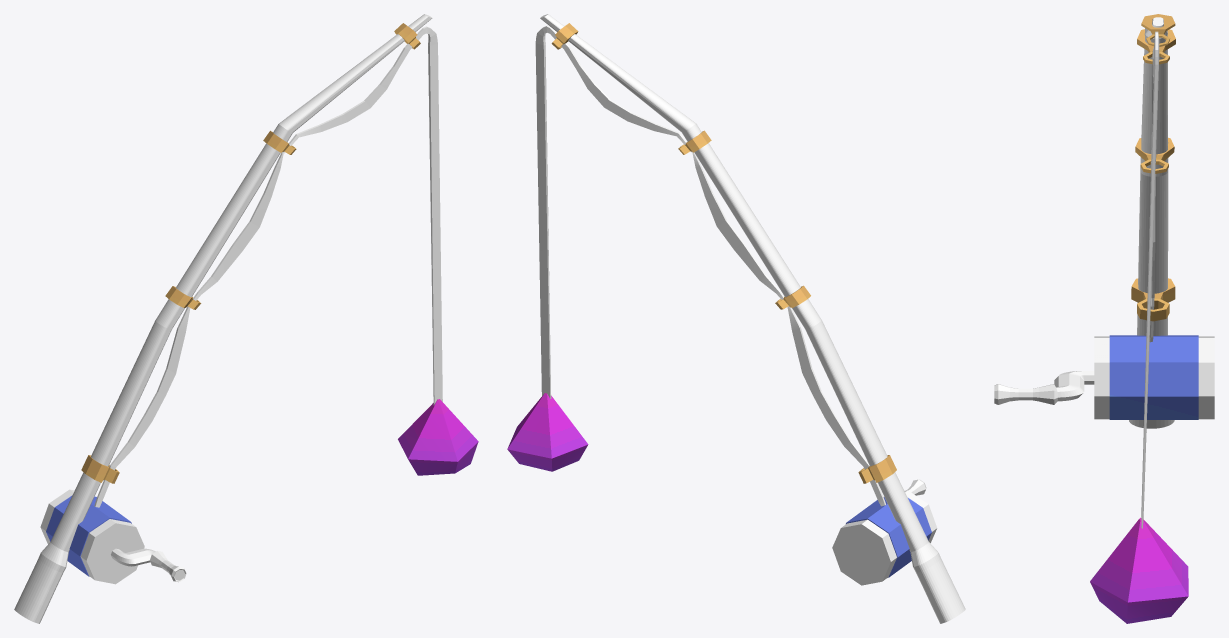
File: rodd.fbx
3 renders of one model, left to right at view 1: azimuth 30°, elevation 25°; view 2: azimuth 150°, elevation 25°; view 3: azimuth 270°, elevation 25°, orthographic. The views are drawn at different scales.
Parts seen in each view (by area): view 1: fishing rod, fishing rod.001, fishing rod.003, fishing rod.002; view 2: fishing rod, fishing rod.001, fishing rod.003, fishing rod.002; view 3: fishing rod.003, fishing rod, fishing rod.002, fishing rod.001.
Boxes of the visible parts, box(x1,y1,x2,y2) form: fishing rod: box(14, 14, 432, 623); fishing rod.001: box(94, 26, 442, 507); fishing rod.003: box(40, 489, 186, 584); fishing rod.002: box(398, 399, 478, 475); fishing rod: box(540, 14, 965, 623); fishing rod.001: box(535, 25, 885, 506); fishing rod.003: box(832, 479, 937, 585); fishing rod.002: box(507, 393, 588, 471); fishing rod.003: box(994, 335, 1214, 419); fishing rod: box(1129, 14, 1175, 428); fishing rod.002: box(1090, 517, 1188, 623); fishing rod.001: box(1141, 31, 1159, 528).
Size of the model in its own units: 339 by 365 by 110.
